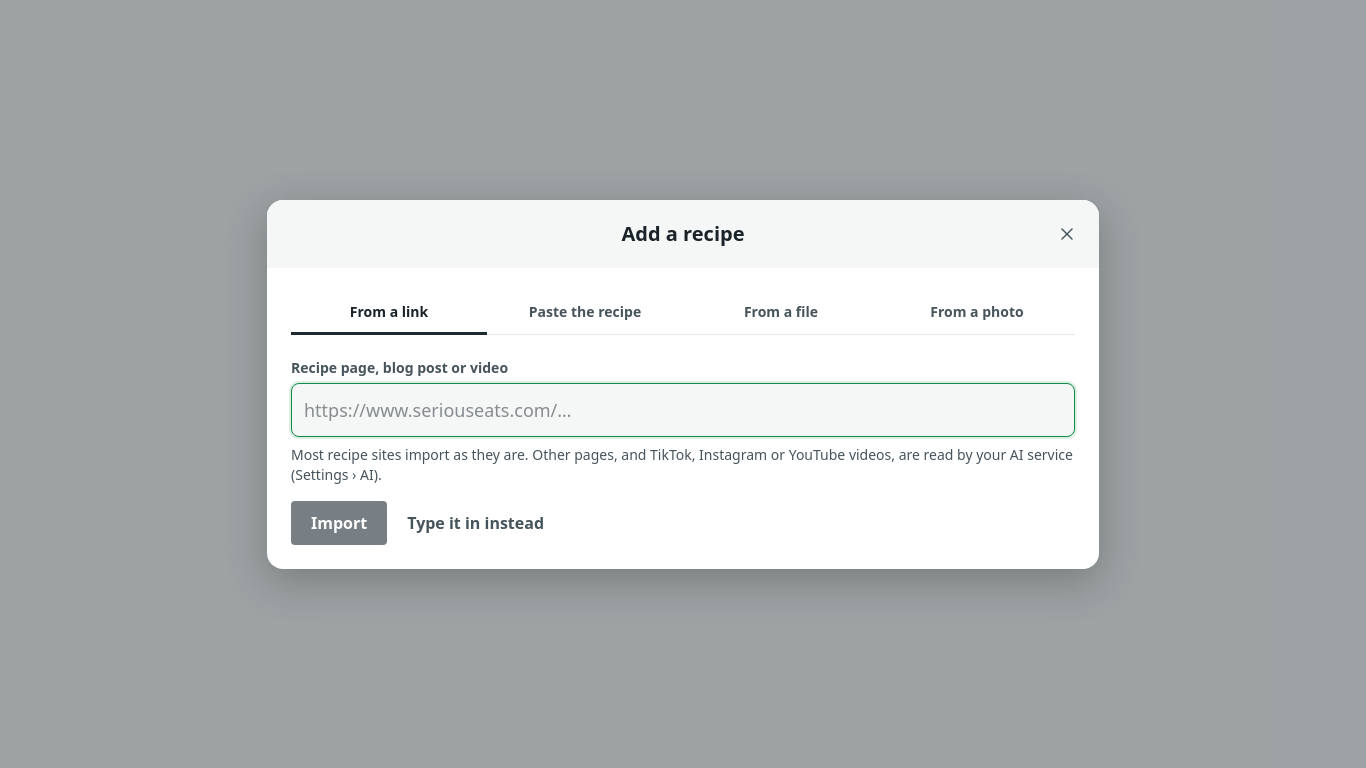
Test: PDFs › the file tab takes a PDF too (one recipe or a whole cookbook)
Step 1. Click the tab "From a file" → (781, 313), box [683,292,879,334]
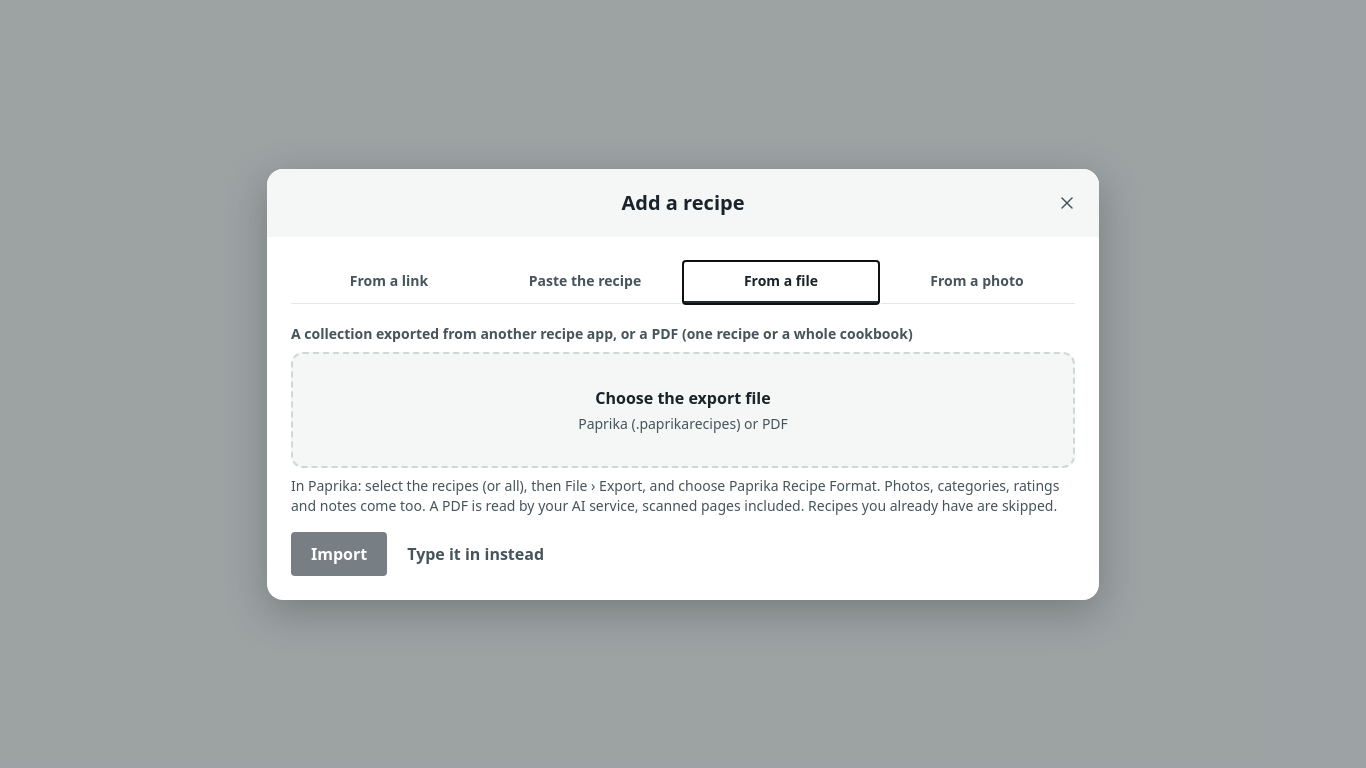
Check: the text "PDF" is shown, box [291,324,913,342]
